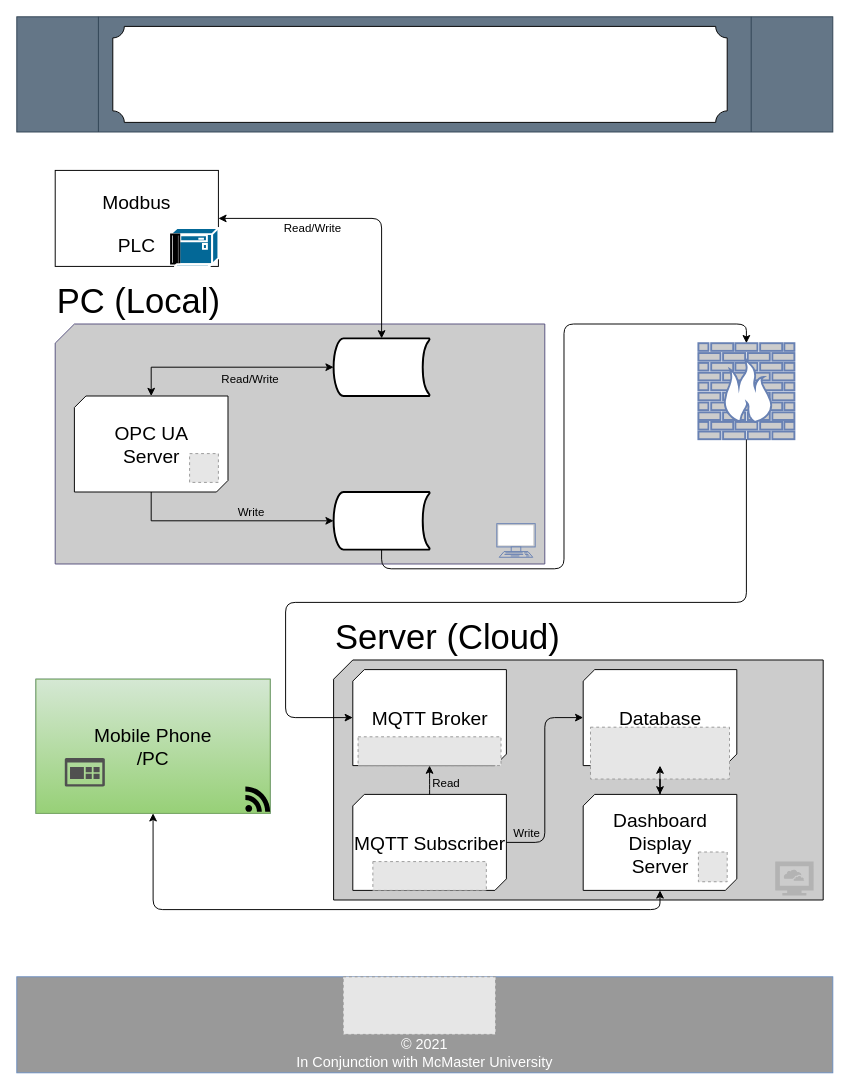
Some shapes in this 850 by 1090 pixel diagram are drawn without their labels. Grey dashed boxes stand in for pictures. The centre of each missing label's shape, as x and y in pixels:
Dashboard: point (84, 772)
Modbus Driver: point (381, 366)
MQTT Publisher: point (381, 520)
PLC ↔ IoT Ingegration: point (419, 73)
